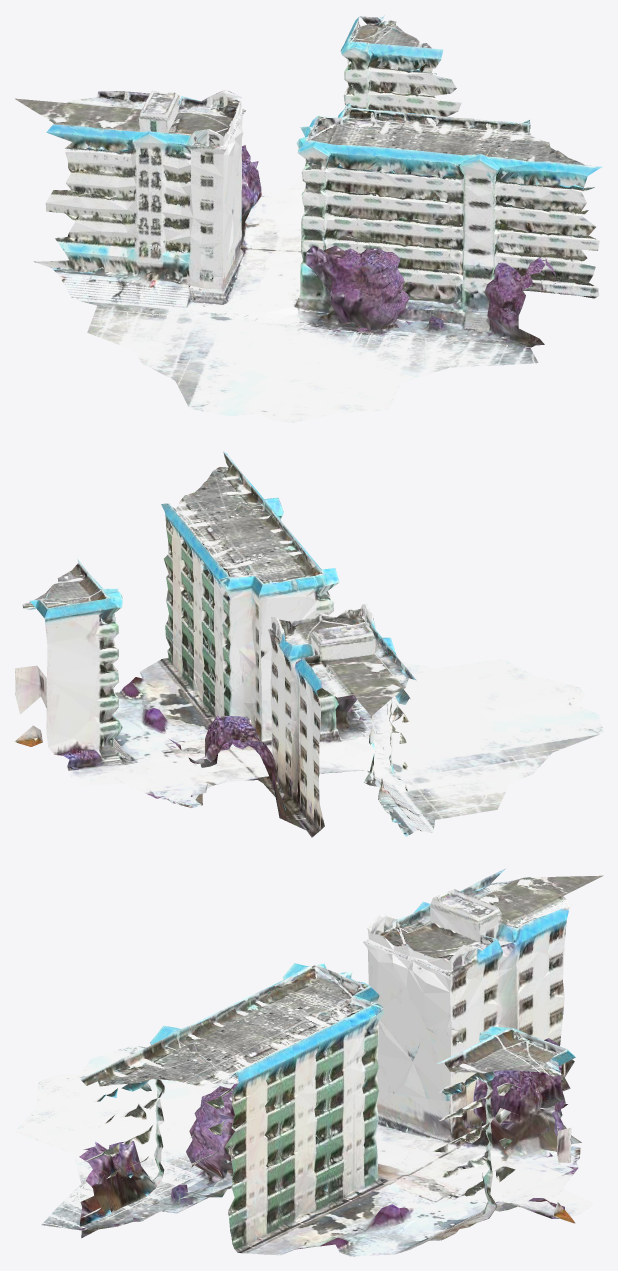
The model's file is Tile_+012_+018_L19_000013.glb.
3 renders of one model, top to bottom at view 1: azimuth 30°, elevation 25°; view 2: azimuth 150°, elevation 25°; view 3: azimuth 270°, elevation 25°, orthographic. The views are drawn at different scales.
Visible parts, largest first — view 1: rtc; view 2: rtc; view 3: rtc.
Part boxes in pixels (x1,y1,x2,y2): rtc: (15,15,603,422); rtc: (14,451,603,837); rtc: (14,868,603,1256).
Size of the model in its own units: 58.08 by 25.15 by 64.
1 material, 1 textured.
